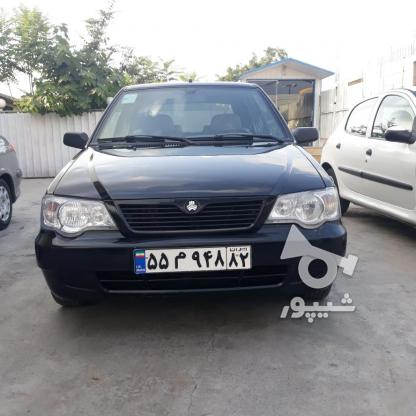car: (131, 244, 249, 273)
